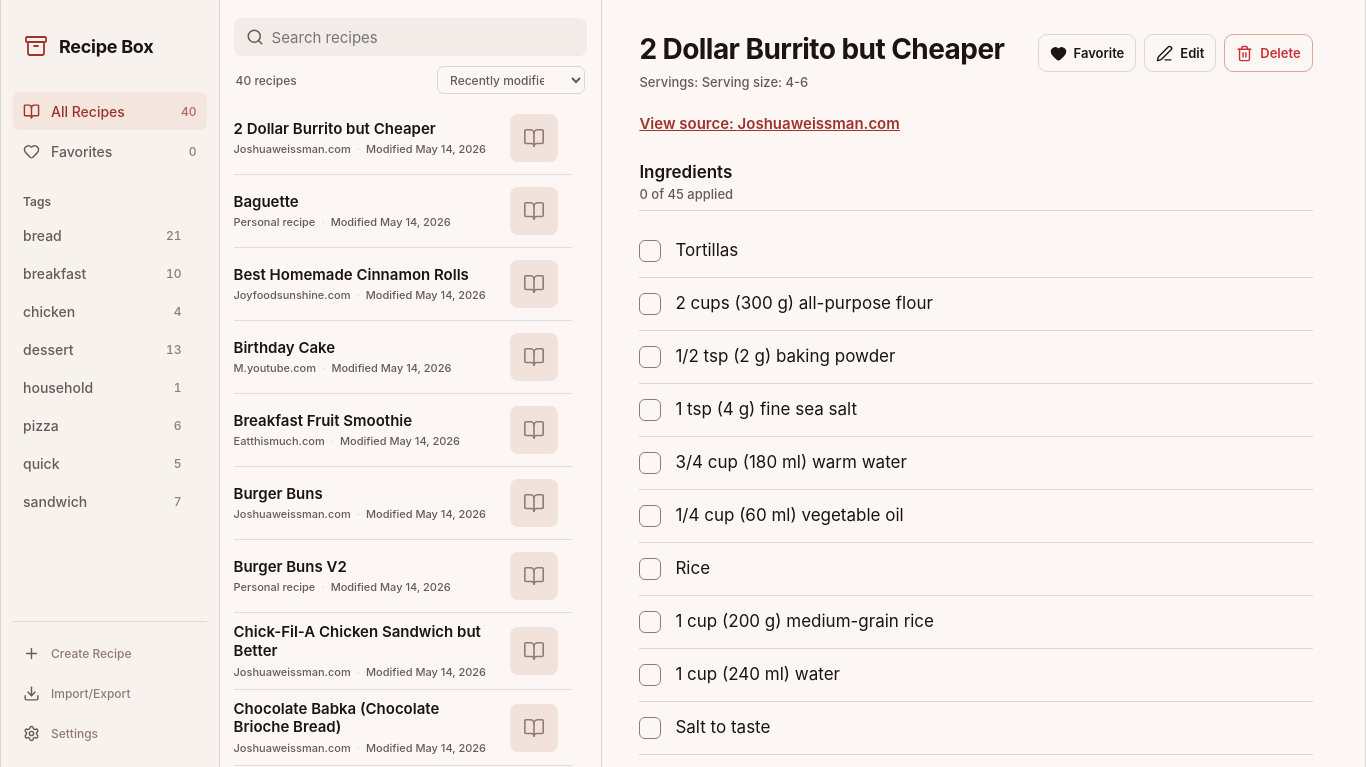
Test case: Recipe Box app shell › reconciles detail selection and preview when search excludes the selected recipe
The width and height of the screenshot is (1366, 767).
Click the button with aria-label "Open Baguette": [266, 201] box [226,175,565,247]
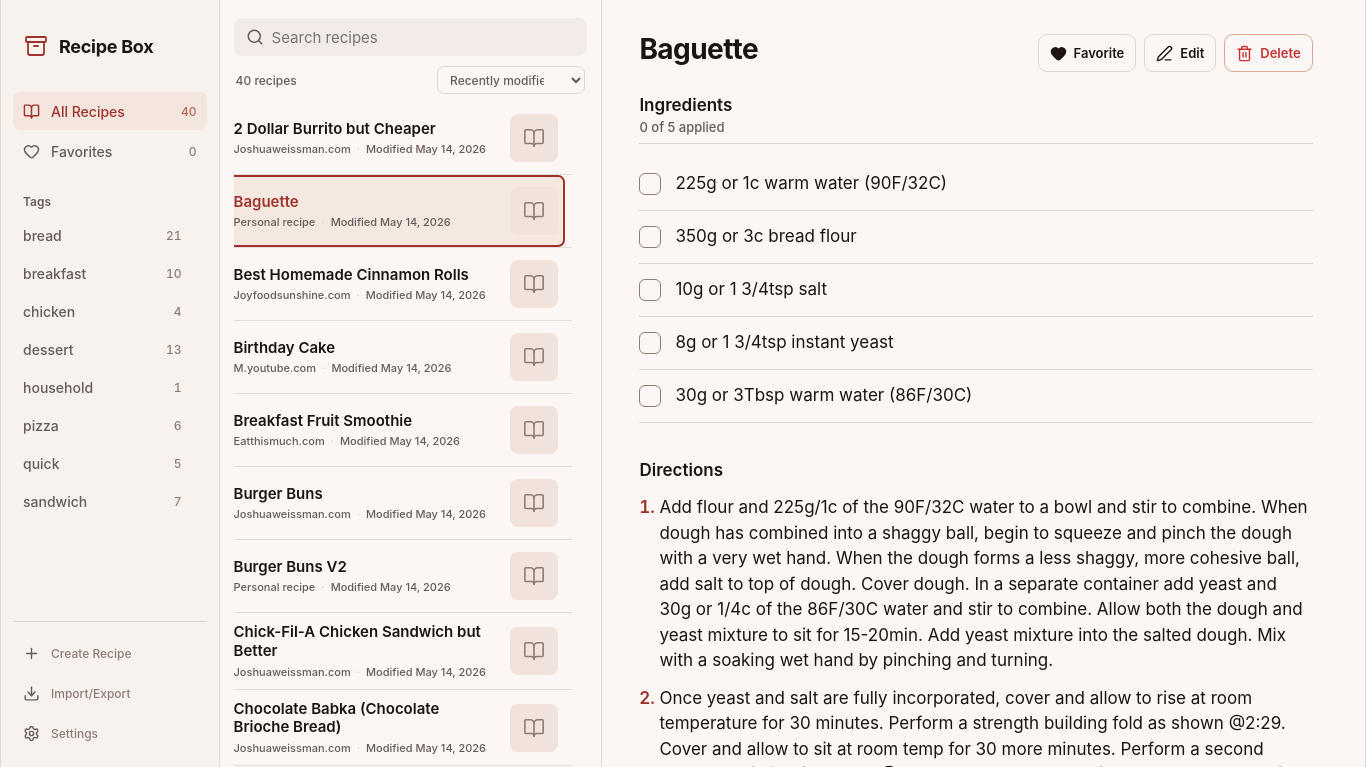
In the search field labelled "Search recipes": [423, 37] box [272,19,575,55], type "pizza"
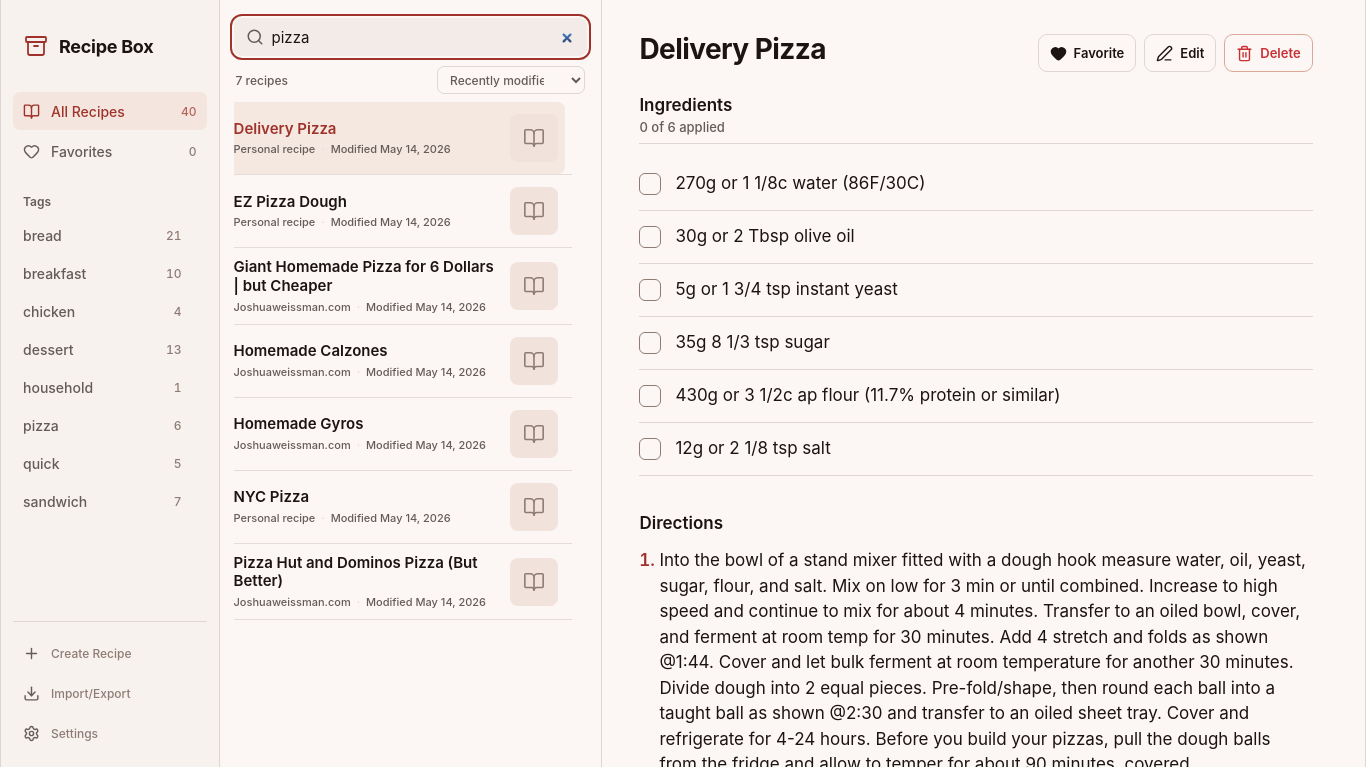
expect the heading "Delivery Pizza" is shown: met, box [639,32,826,66]
